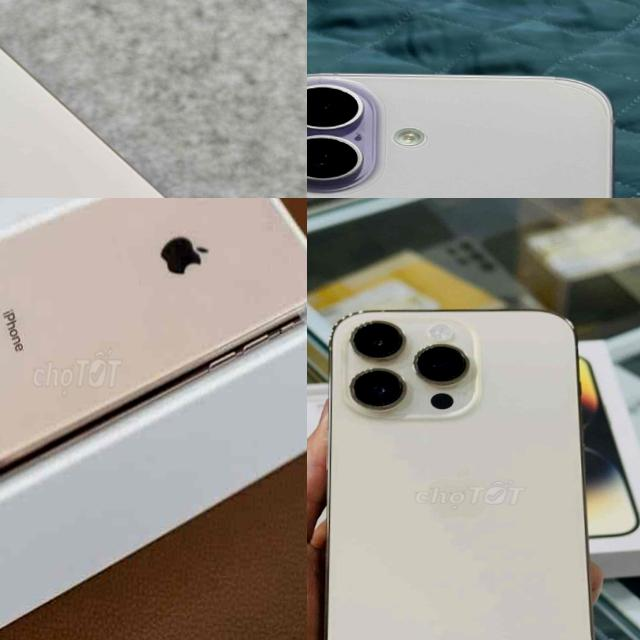gen_14: (307, 303, 608, 640)
gen_15: (0, 10, 307, 198)
gen_17: (307, 67, 640, 198)
gen_x_xs: (0, 198, 307, 492)
